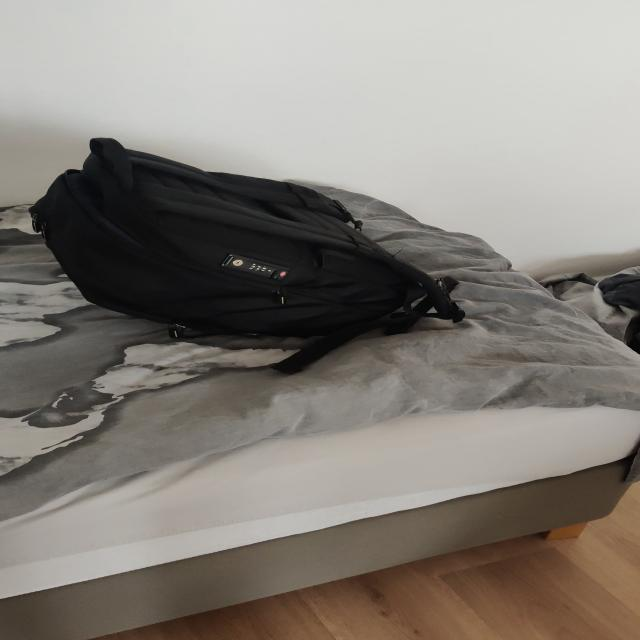backpack: (21, 130, 464, 374)
